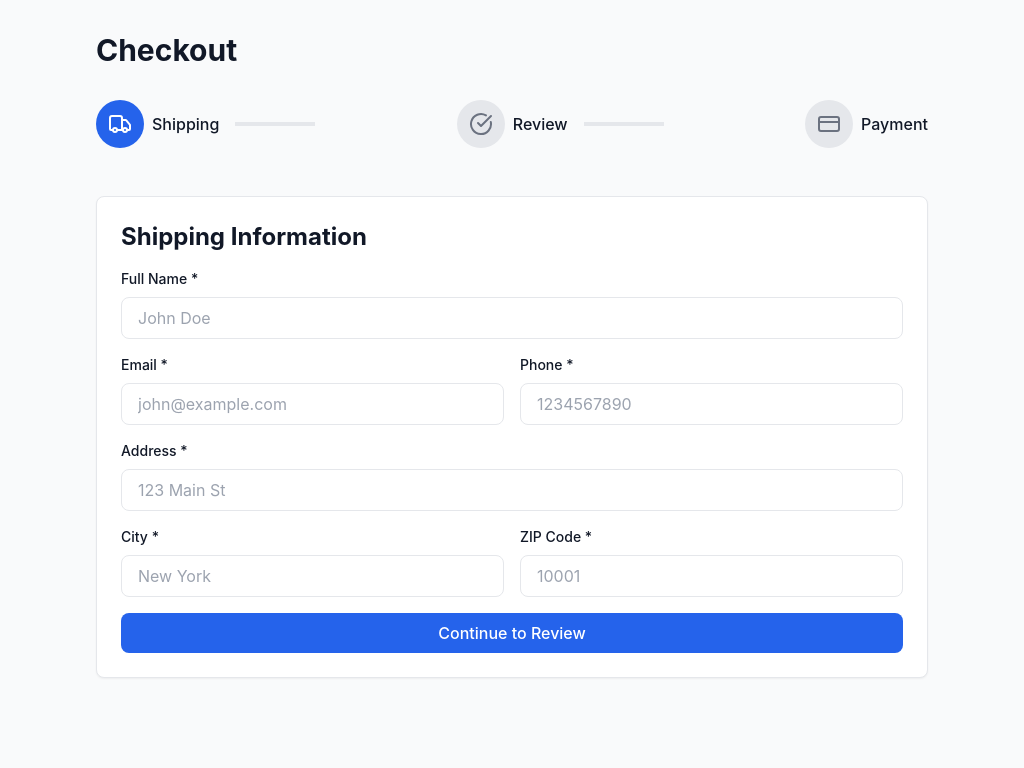
Test case: CheckoutPage › shows validation errors for invalid phone
Expected: the heading "Checkout" is shown, [96,32,237,68]
Step 1. Type "123" into the field with placeholder "1234567890" → point(712, 404), box [520,383,903,425]
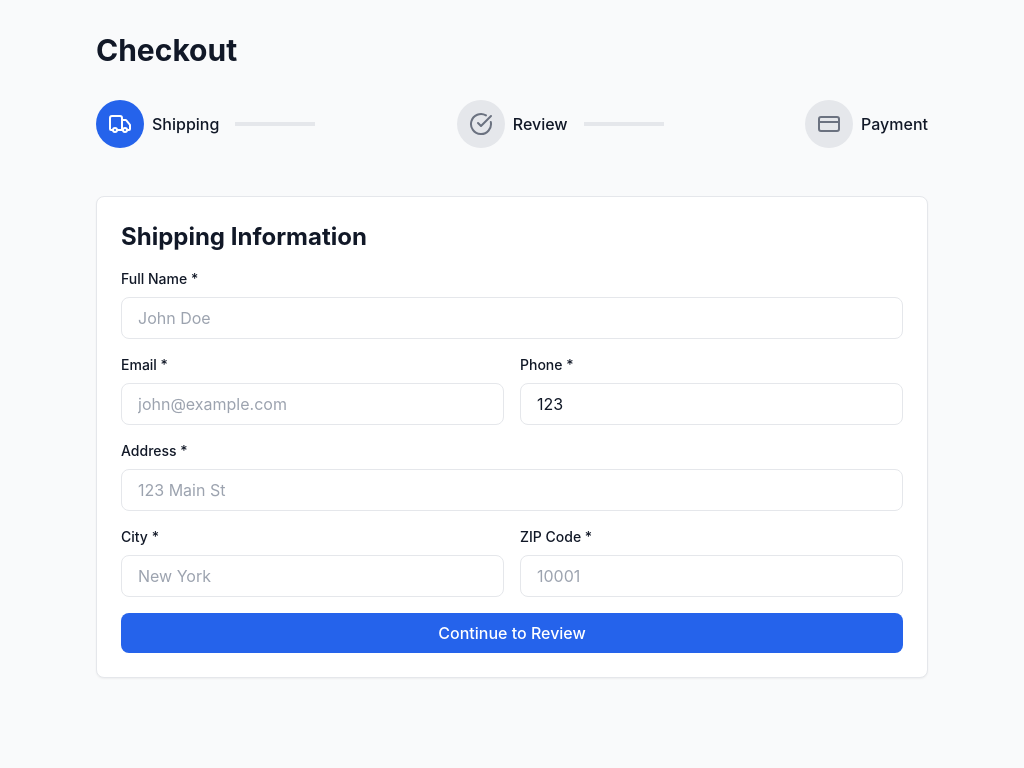
Step 2. Leave the field with placeholder "1234567890", box [520,383,903,425]
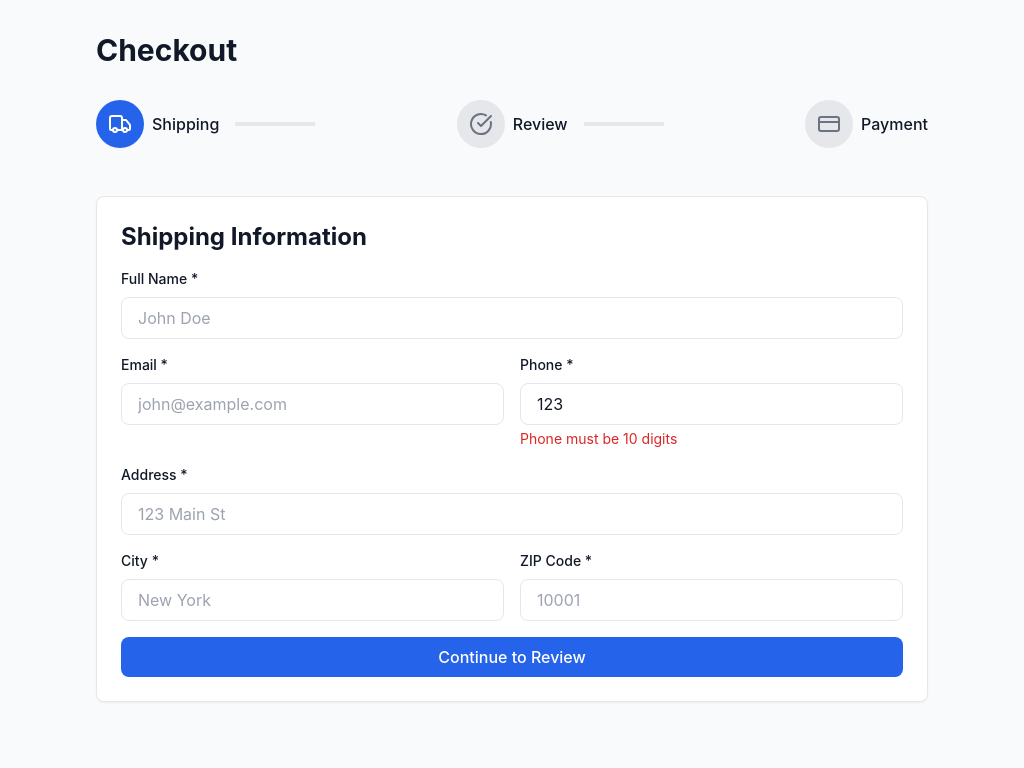
Result: the text "Phone must be 10 digits" is shown at [520,430,677,447]
